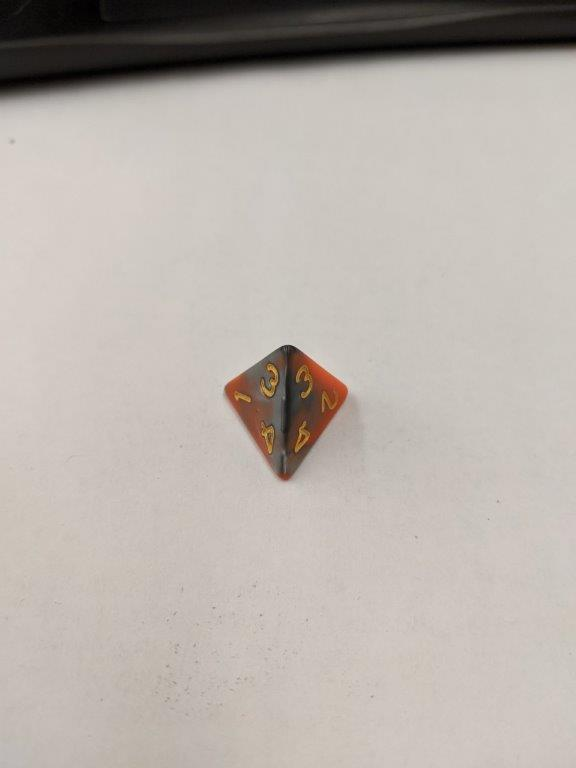d4-3: (220, 343, 353, 485)
